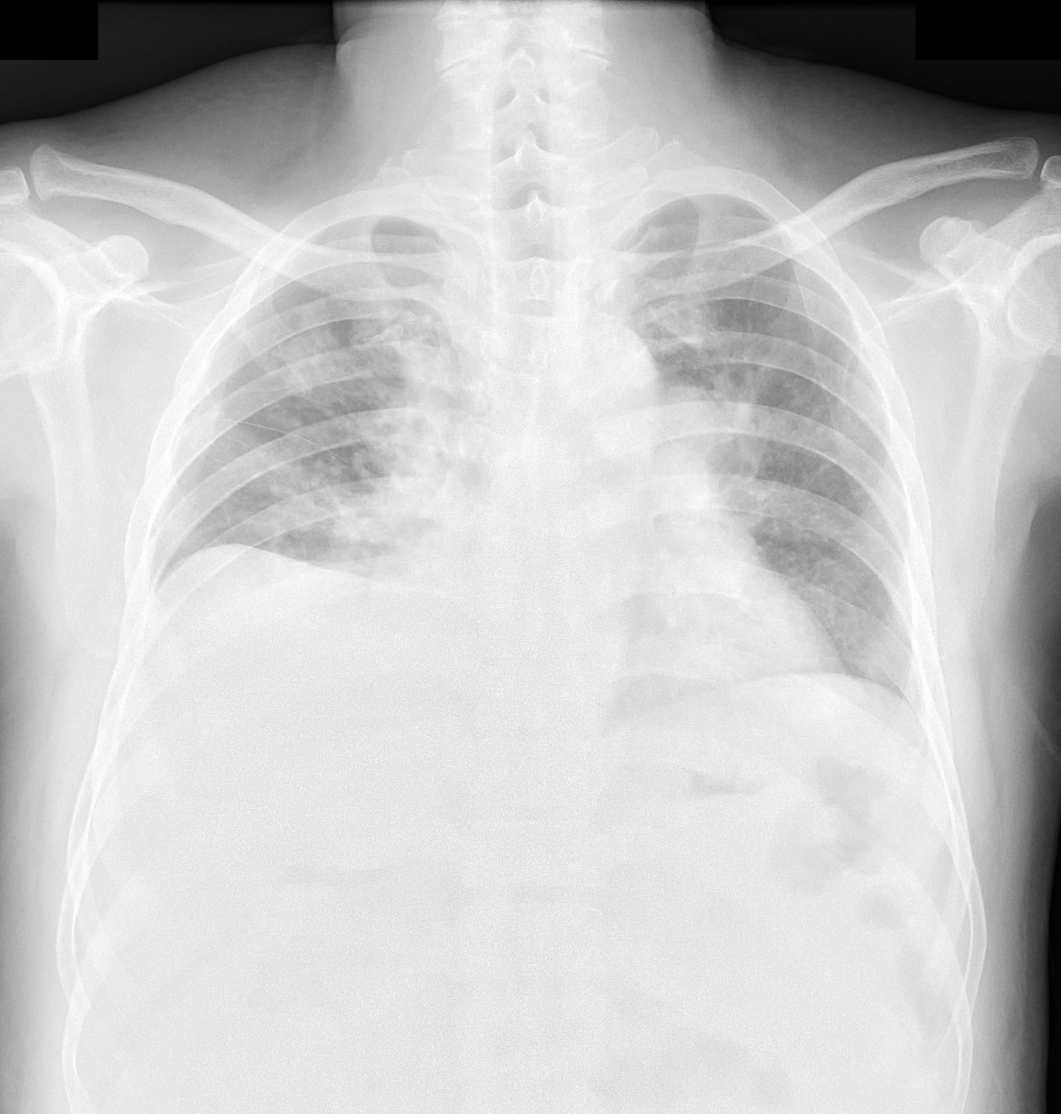Cardiomegaly: (362, 532, 840, 763)
